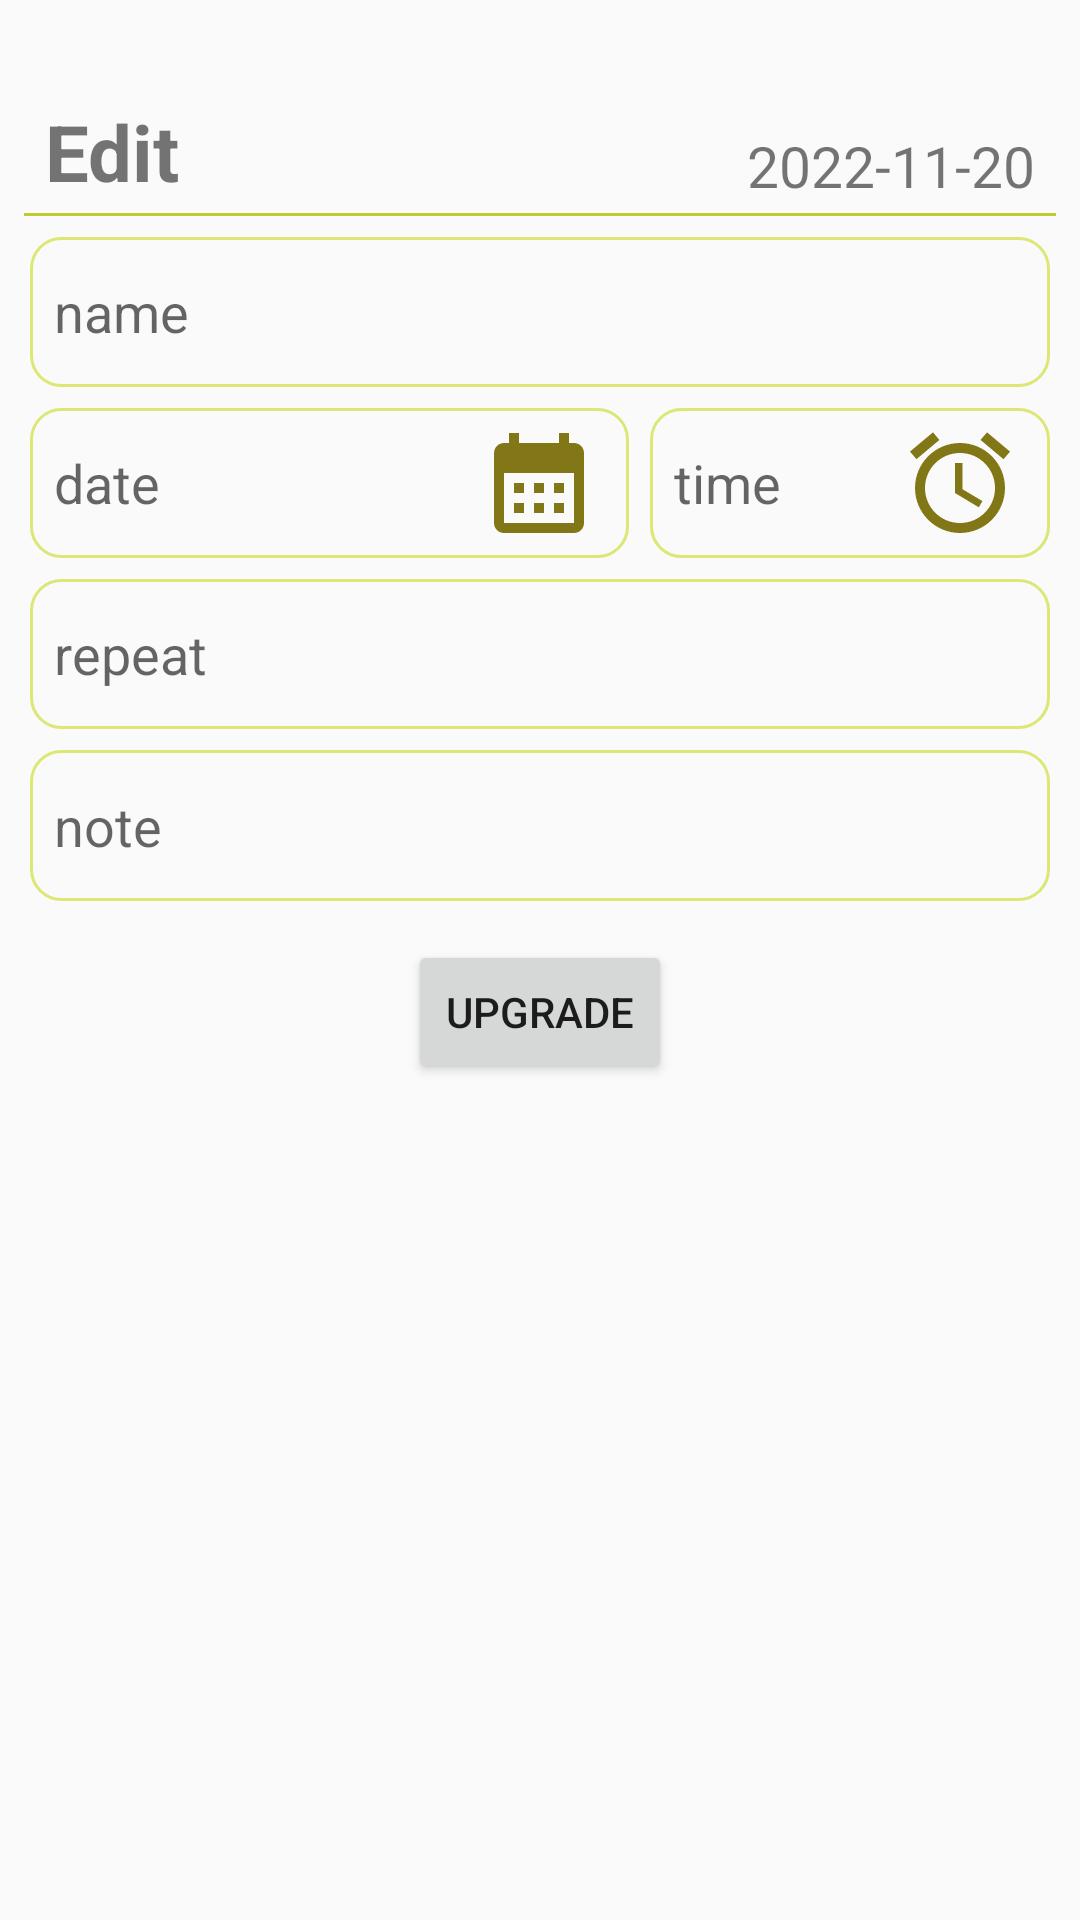

Locate icon controls on the screen. Image size 1080 x 1920, boxes as (x1, y1, x2, y2).
alarm: (910, 432, 1010, 533)
calendar month: (494, 433, 584, 533)
